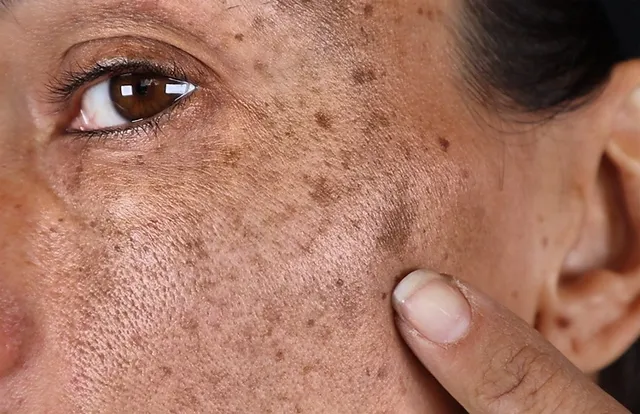Flek Hitam: (202, 1, 499, 315)
